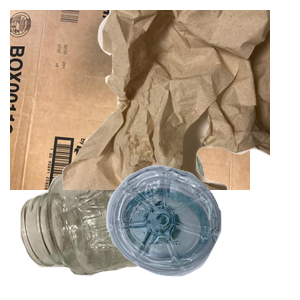cardboard: (10, 10, 250, 190)
glass: (18, 143, 227, 300)
plastic: (104, 163, 300, 300)
trash: (60, 10, 300, 190)
